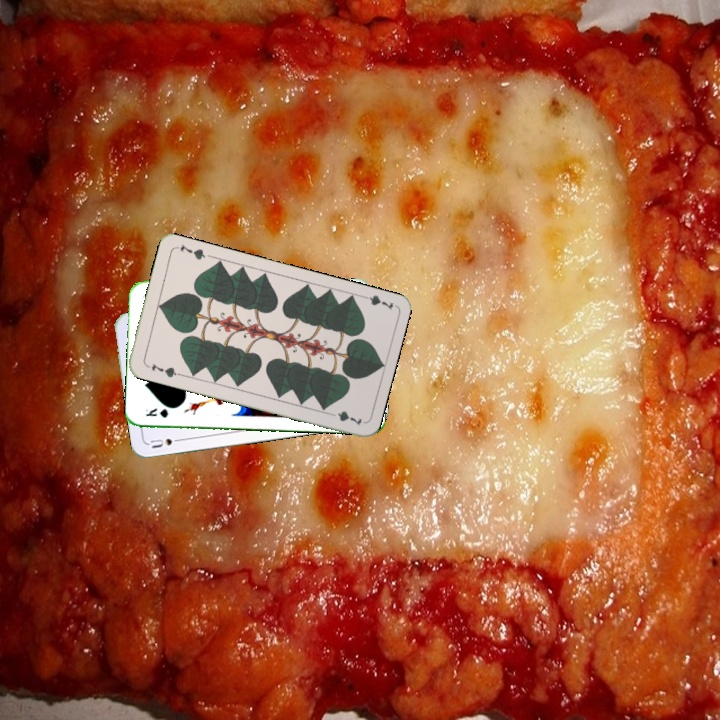G7: (356, 290, 396, 312), (142, 359, 182, 380)
GK: (142, 404, 171, 420)
SU: (146, 432, 186, 451)
